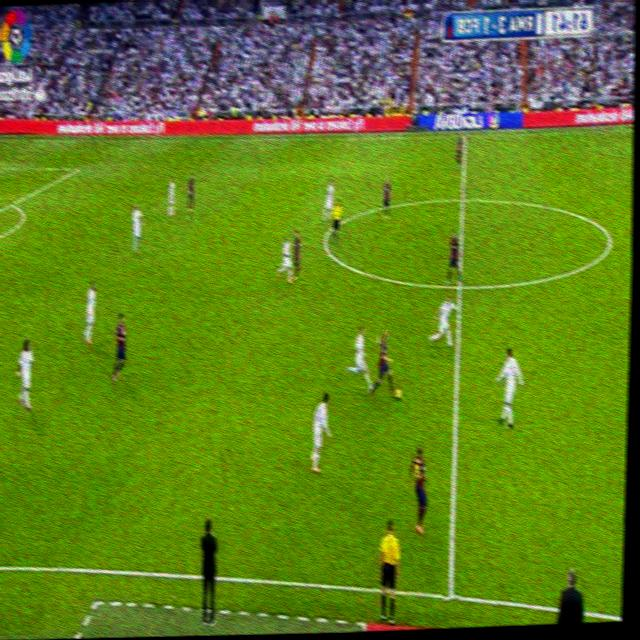halfcircle_bottom: (453, 275, 465, 295)
halfcircle_top: (456, 187, 469, 210)
midline_bottom_intersection: (442, 577, 459, 604)
midline_top_intersection: (460, 129, 469, 141)
top_arc_area_intersection: (7, 195, 17, 210)
